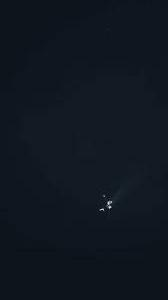Plane: (91, 185, 121, 224)
